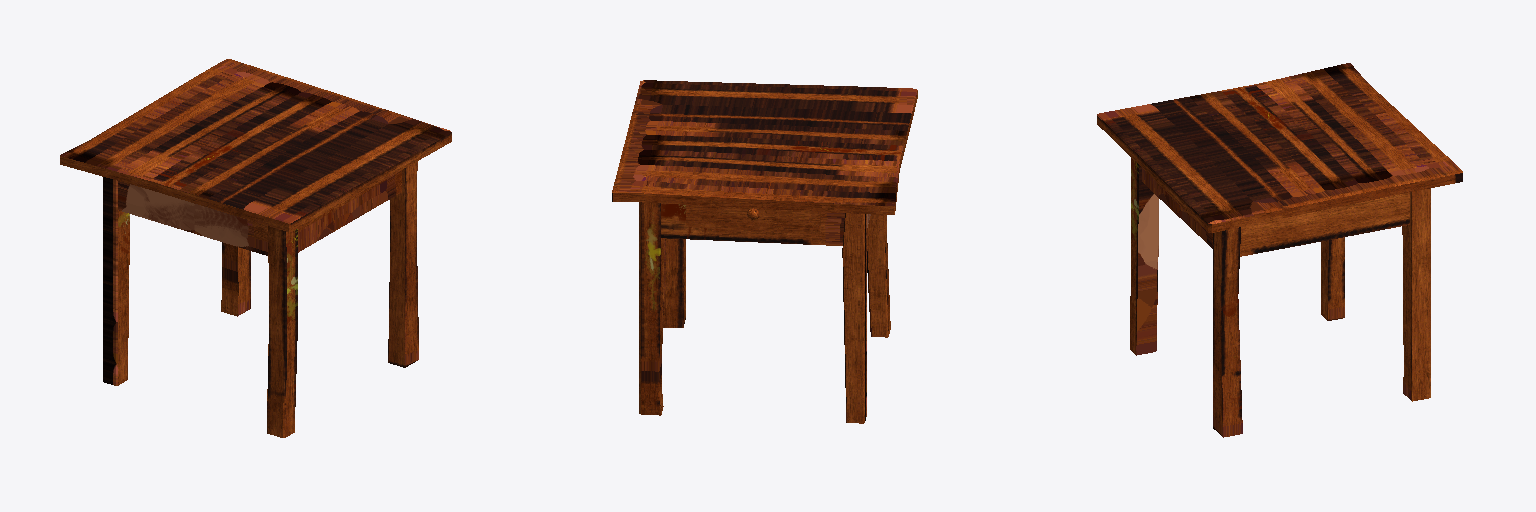
The picture shows the model from 3 angles: view 1: azimuth 30°, elevation 25°; view 2: azimuth 150°, elevation 25°; view 3: azimuth 270°, elevation 25°; orthographic projection.
Visible parts, largest first — view 1: Cylinder_Cylinder.001; view 2: Cylinder_Cylinder.001; view 3: Cylinder_Cylinder.001.
Boxes of the visible parts, box(x1,y1,x2,y2) form: Cylinder_Cylinder.001: box(60, 59, 451, 437); Cylinder_Cylinder.001: box(612, 80, 917, 423); Cylinder_Cylinder.001: box(1097, 63, 1462, 437).
Bounding box in the file's own units: 1.07 × 0.7358 × 1.05.
1 materials, 1 textured.